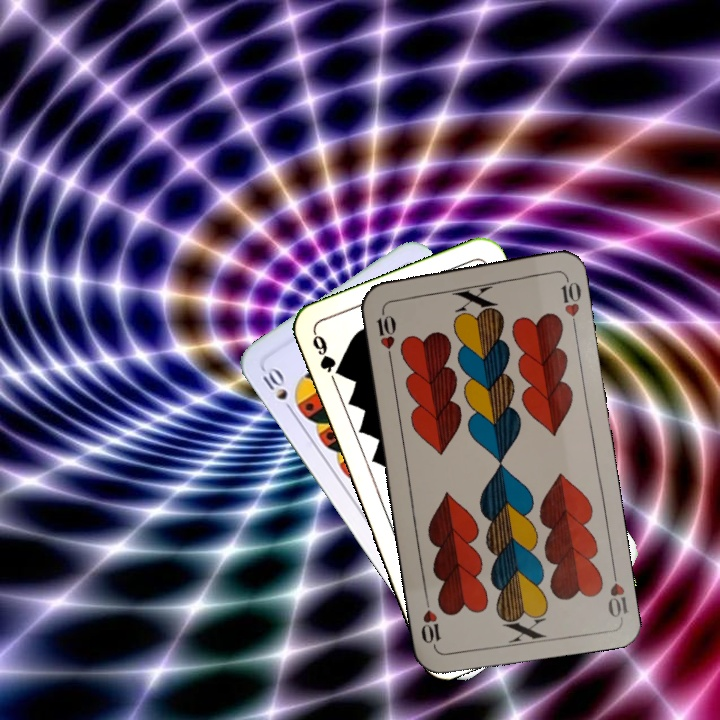G9: (308, 329, 344, 379)
H10: (603, 562, 630, 621), (373, 304, 399, 363)
S10: (256, 362, 297, 417)
